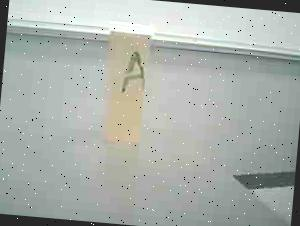Bottle A: (90, 11, 170, 159)
